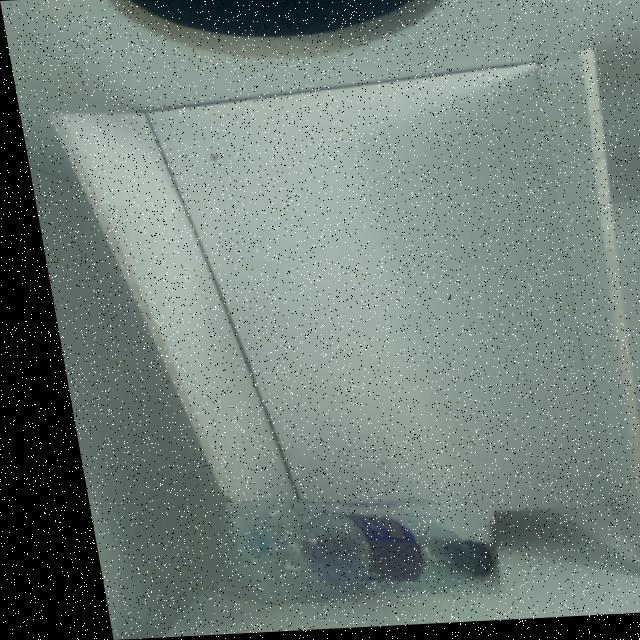plasticbottle: (186, 491, 485, 608)
